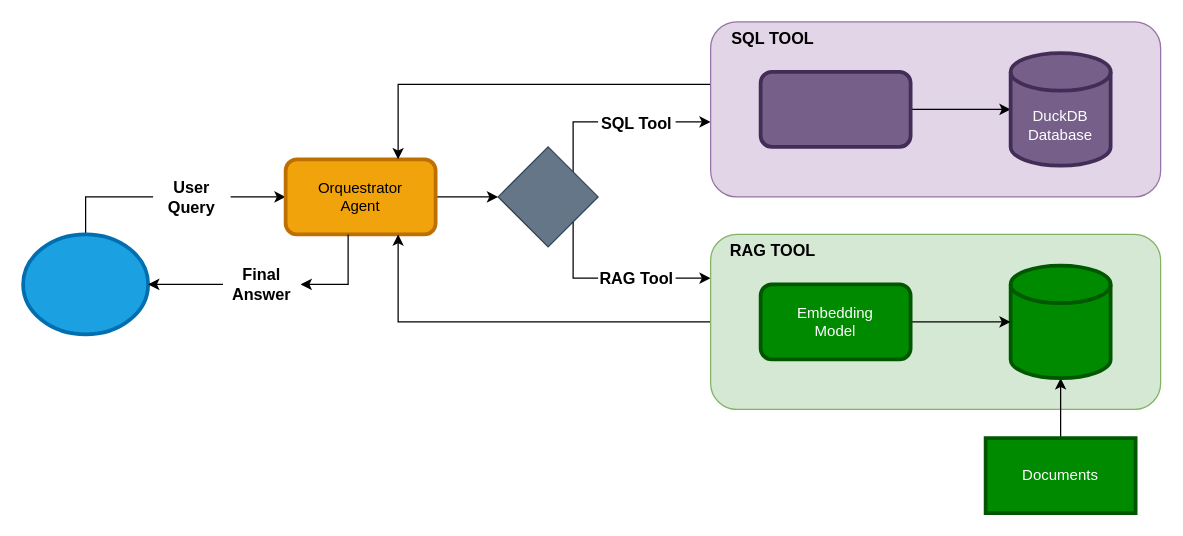
Image size: 1183x536. Some labels were removed from this diagram. The centre of each missing label's shape, as x and y in pixels:
Choose Tool: [547,196]
Chroma DB Vector Store: [1060,321]
SQL Query Agent: [835,108]
User interface: [85,284]
